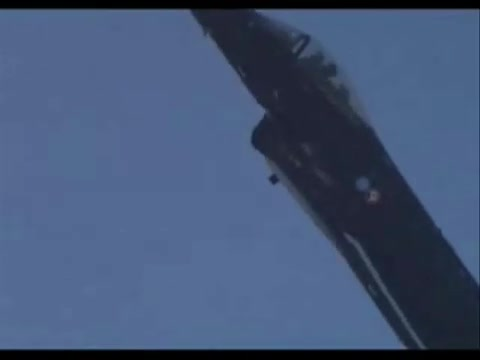aeroplane: (188, 11, 480, 351)
